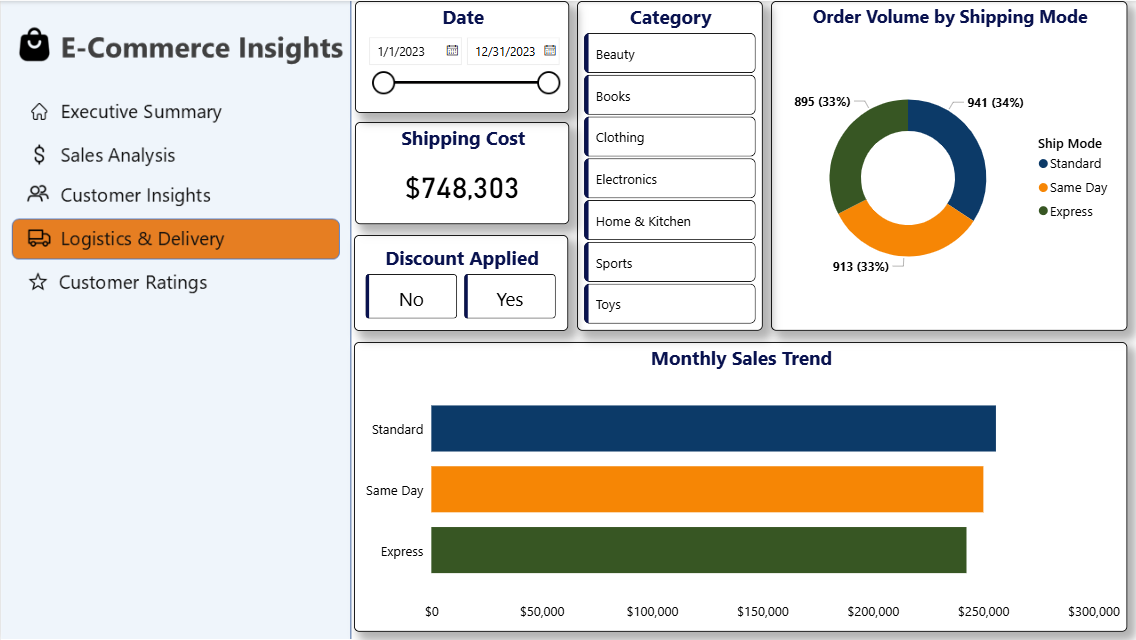

What the dashboard file says about the page in this screenshot:
{"tool":"powerbi","page":{"name":"Logistics & Delivery","canvas":[1280,720],"ordinal":3},"visuals":[{"type":"donutChart","title":"Order Volume by Shipping Mode","fields":{"Category":["ecommerce sales.ship_mode"],"Y":["CountNonNull(ecommerce sales.order_id)"]},"box":[866.2,0,401.2,371.2],"z":0},{"type":"clusteredBarChart","title":"Monthly Sales Trend","fields":{"Category":["ecommerce sales.ship_mode"],"Y":["Sum(ecommerce sales.shipping_cost)"]},"box":[397.5,383.8,870,326.2],"z":1000},{"type":"advancedSlicerVisual","title":"Category","fields":{"Values":["ecommerce sales.category"]},"box":[648,0,209,371],"z":2000},{"type":"card","title":"Shipping Cost","fields":{"Values":["Sum(ecommerce sales.shipping_cost)"]},"box":[398.8,136.2,241.2,115],"z":3000},{"type":"slicer","title":"Date ","fields":{"Values":["ecommerce sales.Date"]},"box":[398.6,0,241.4,125.7],"z":4000},{"type":"actionButton","box":[19,156,353,40],"z":5000},{"type":"actionButton","box":[19,196,353,46],"z":6000},{"type":"actionButton","box":[18.8,101.2,353.8,50],"z":7000},{"type":"actionButton","box":[19,292,353,47],"z":8000},{"type":"advancedSlicerVisual","title":"Discount Applied","fields":{"Values":["ecommerce sales.discount_applied"]},"box":[397.5,263.8,241.2,107.5],"z":9000}]}

Visuals, with their boxes in screenshot pixels (x1, y1, x2, y2), scaled from the page's 1280x720 canvas onto the 1136x640 screenshot:
"Order Volume by Shipping Mode" donutChart: x1=769 y1=0 x2=1125 y2=330
"Monthly Sales Trend" clusteredBarChart: x1=353 y1=341 x2=1125 y2=631
"Category" advancedSlicerVisual: x1=575 y1=0 x2=761 y2=330
"Shipping Cost" card: x1=354 y1=121 x2=568 y2=223
"Date " slicer: x1=354 y1=0 x2=568 y2=112
actionButton: x1=17 y1=139 x2=330 y2=174
actionButton: x1=17 y1=174 x2=330 y2=215
actionButton: x1=17 y1=90 x2=331 y2=134
actionButton: x1=17 y1=260 x2=330 y2=301
"Discount Applied" advancedSlicerVisual: x1=353 y1=234 x2=567 y2=330
